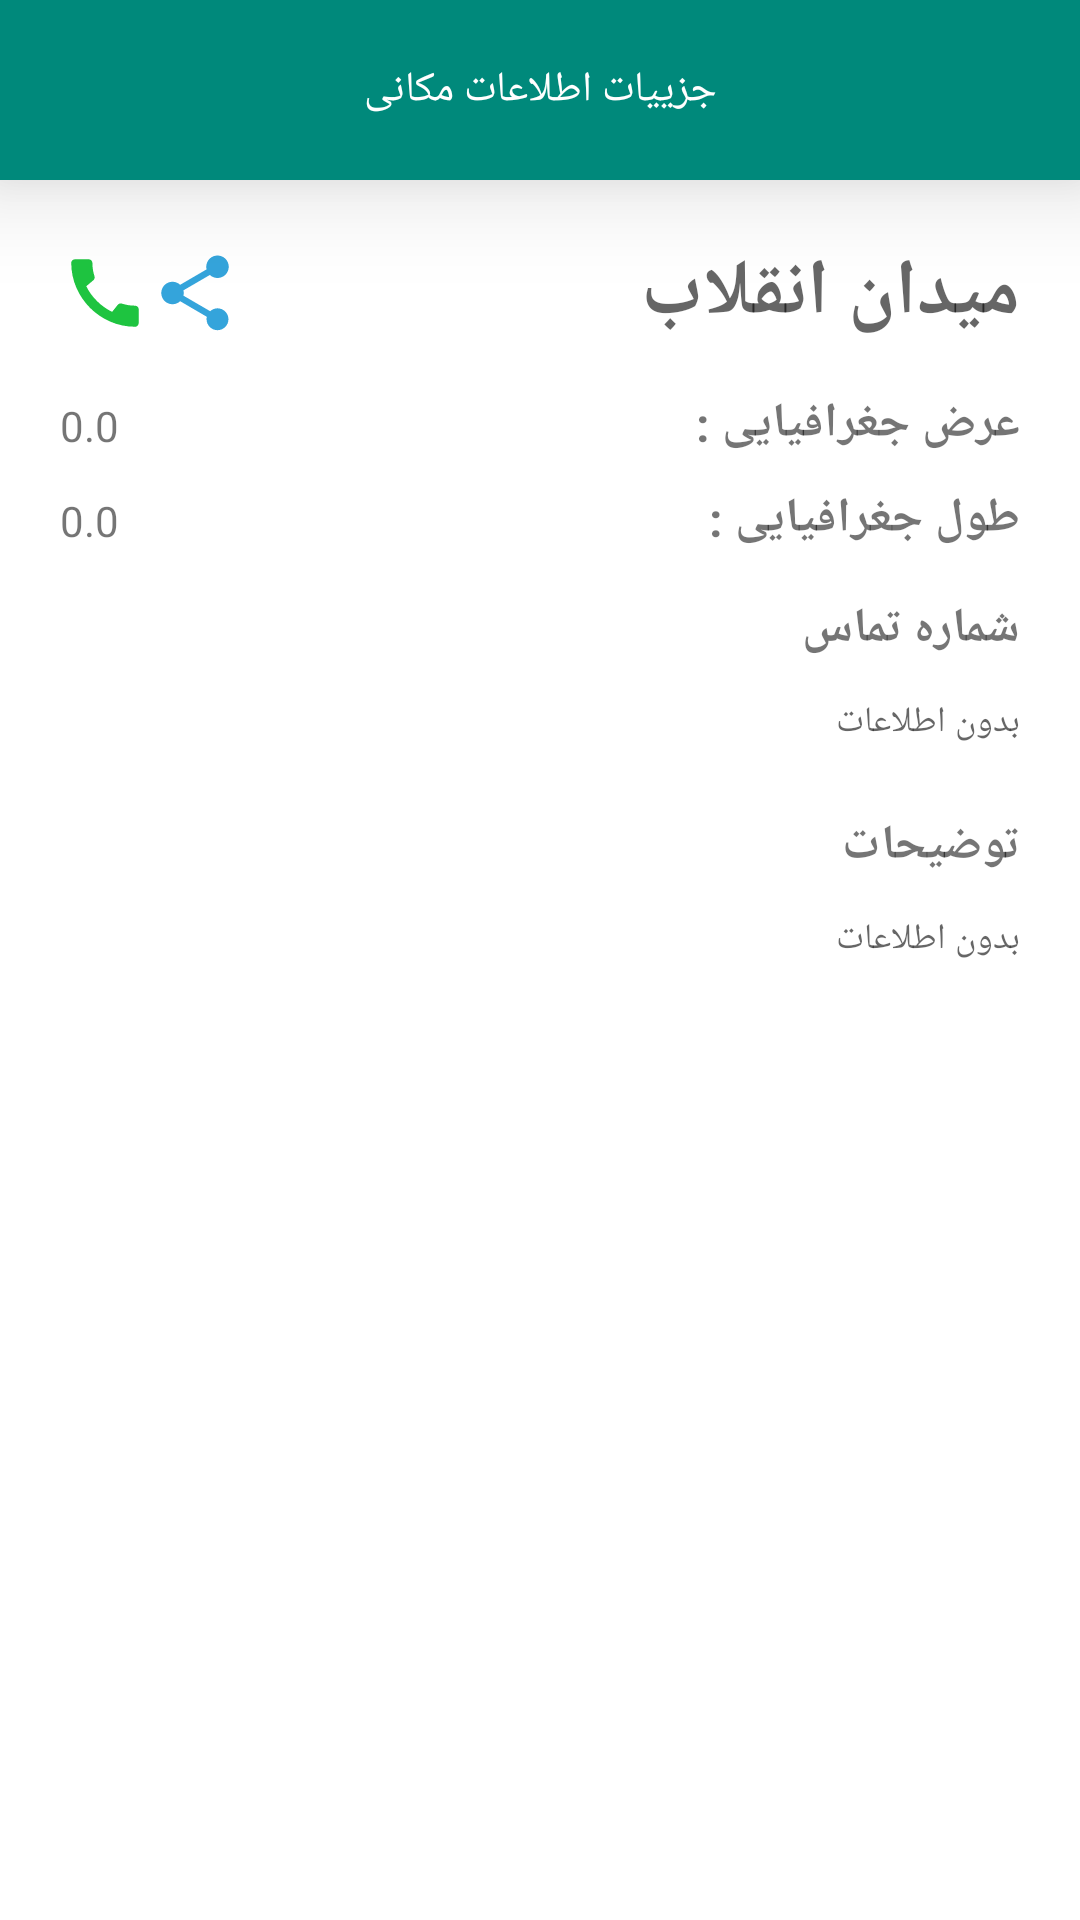

Where to tap for icons on this 1080x1920 app screen, as (x=x, y=y):
call: (x=105, y=293)
share: (x=195, y=293)
